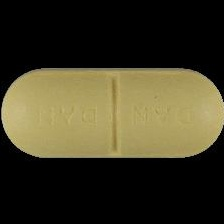11819-282: (0, 0, 224, 224)
